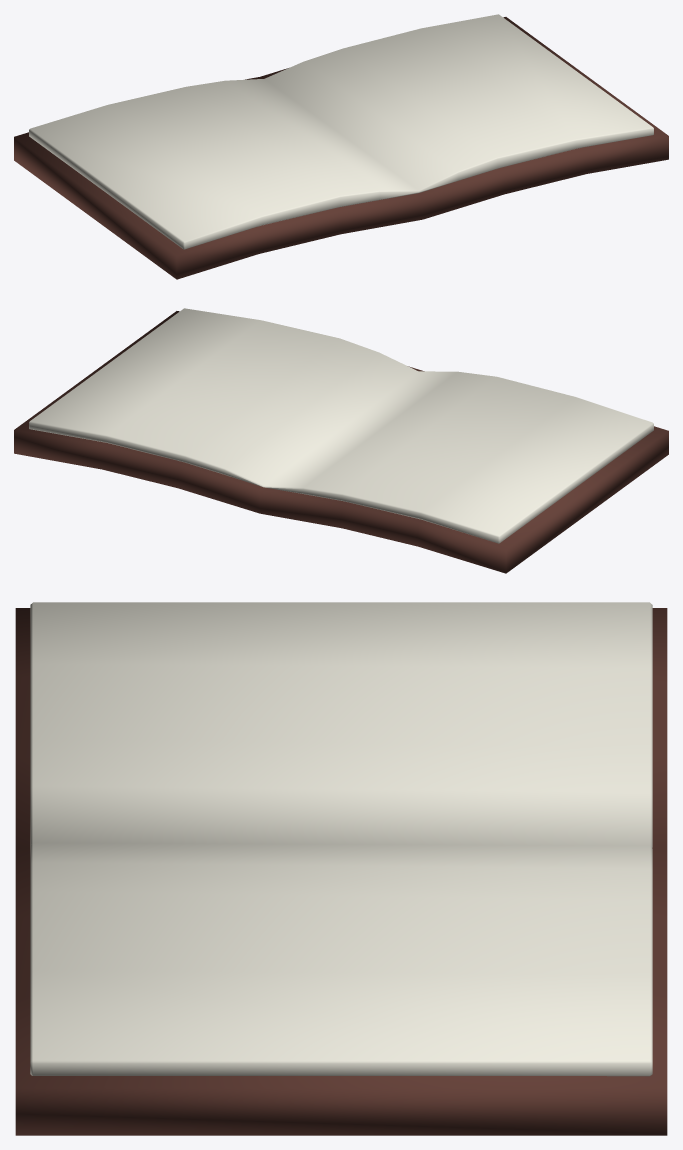
The model's file is Red Book Open.fbx.
3 views of the same model, one above another, from view 1: azimuth 30°, elevation 25°; view 2: azimuth 150°, elevation 25°; view 3: azimuth 270°, elevation 25° (orthographic). The views are drawn at different scales.
Parts seen in each view (by area): view 1: Red Book Open, Cover.001; view 2: Red Book Open, Cover.001; view 3: Red Book Open, Cover.001.
Boxes of the visible parts, bbox=[...] form: Red Book Open: bbox=[29, 14, 653, 249]; Cover.001: bbox=[14, 17, 668, 279]; Red Book Open: bbox=[29, 308, 653, 543]; Cover.001: bbox=[14, 311, 668, 573]; Red Book Open: bbox=[30, 602, 652, 1076]; Cover.001: bbox=[15, 608, 667, 1135].
Size of the model in its own units: 477 by 37.07 by 273.
